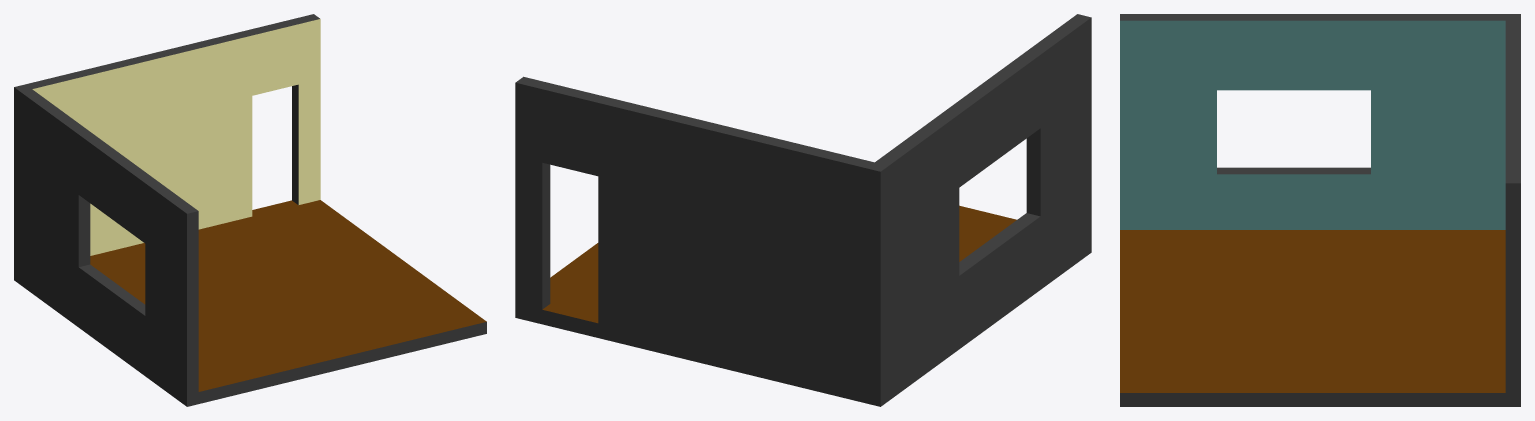
The model's file is room.obj.
3 views of the same model, side by side, from view 1: azimuth 30°, elevation 25°; view 2: azimuth 150°, elevation 25°; view 3: azimuth 270°, elevation 25° (orthographic). The views are drawn at different scales.
Parts seen in each view (by area): view 1: room; view 2: room; view 3: room.
Part boxes in pixels (x1,y1,x2,y2): room: (14, 14, 486, 406); room: (515, 14, 1091, 406); room: (1120, 14, 1520, 406).
Bounding box in the file's own units: 520 × 320 × 520.
Materials: 1 (1 with a texture image).
